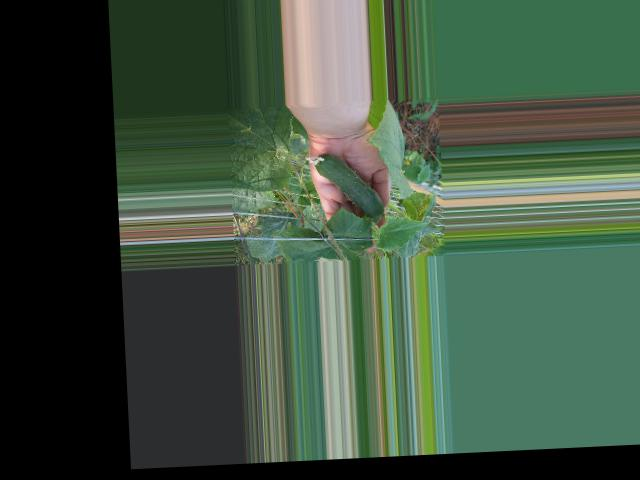cucumber: (304, 150, 383, 221)
